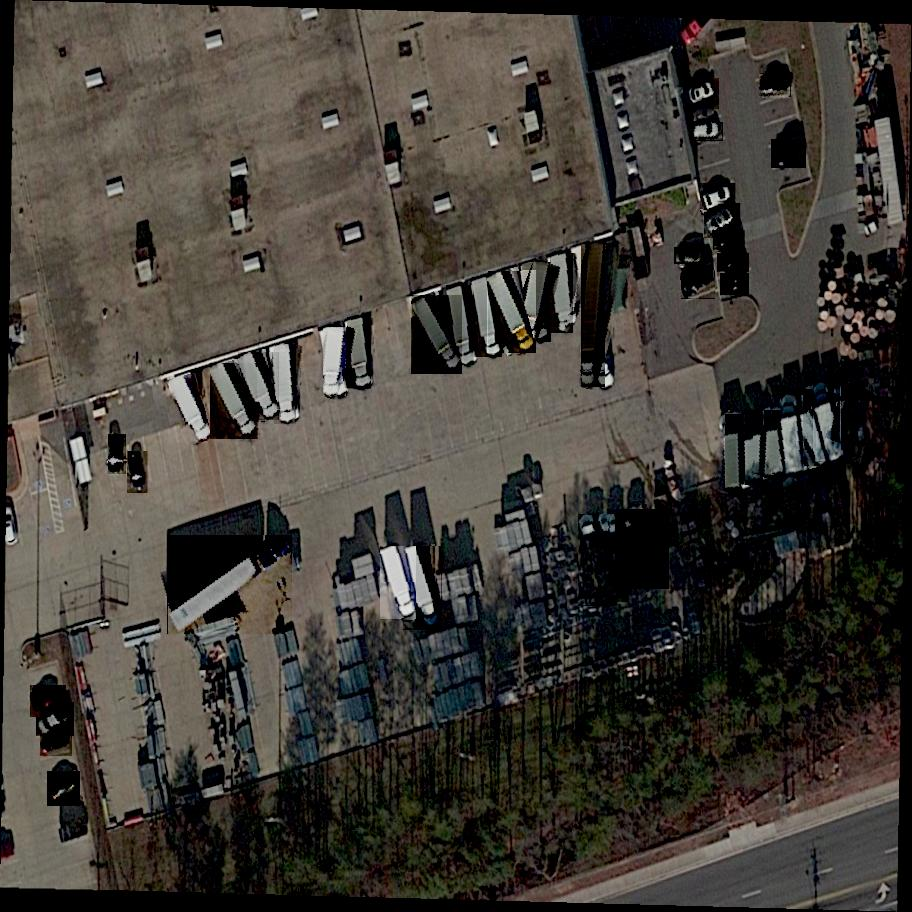large-vehicle: (167, 536, 295, 636), (614, 510, 670, 589), (488, 272, 540, 354), (411, 295, 464, 374), (787, 389, 837, 466), (210, 363, 260, 439), (578, 515, 619, 606), (582, 243, 606, 387), (403, 546, 444, 630), (168, 376, 214, 443), (238, 352, 283, 420), (380, 546, 418, 620), (813, 382, 848, 461), (472, 278, 503, 358), (522, 260, 551, 343), (447, 286, 475, 365), (551, 253, 574, 333), (274, 344, 297, 424), (782, 395, 805, 475), (611, 513, 631, 603), (347, 318, 372, 389), (323, 326, 347, 397), (764, 409, 785, 479), (726, 415, 742, 491), (841, 386, 861, 446), (746, 413, 762, 484)
small-vehicle: (35, 702, 76, 736), (45, 771, 84, 806), (703, 203, 741, 238), (682, 78, 722, 110), (30, 686, 69, 718), (769, 139, 809, 169), (680, 271, 718, 299), (701, 184, 736, 213), (39, 731, 75, 757), (128, 451, 150, 493), (758, 73, 792, 97), (109, 433, 127, 475), (719, 274, 751, 296), (712, 231, 746, 251), (717, 254, 751, 273), (675, 247, 708, 265), (693, 123, 722, 140)
